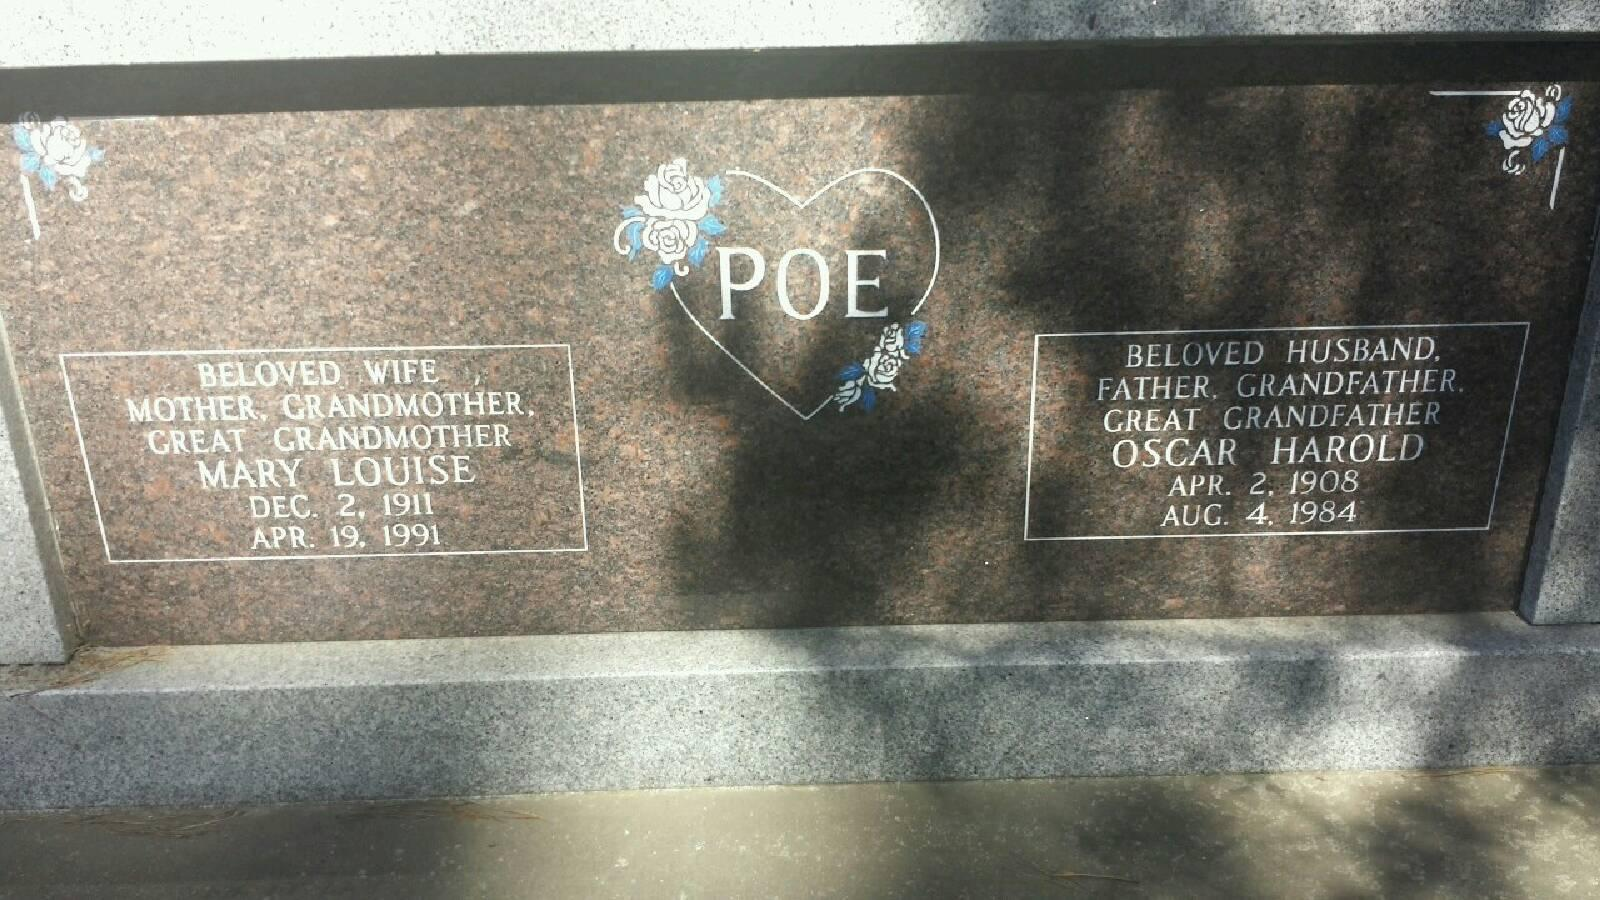upright: (0, 42, 1600, 653)
